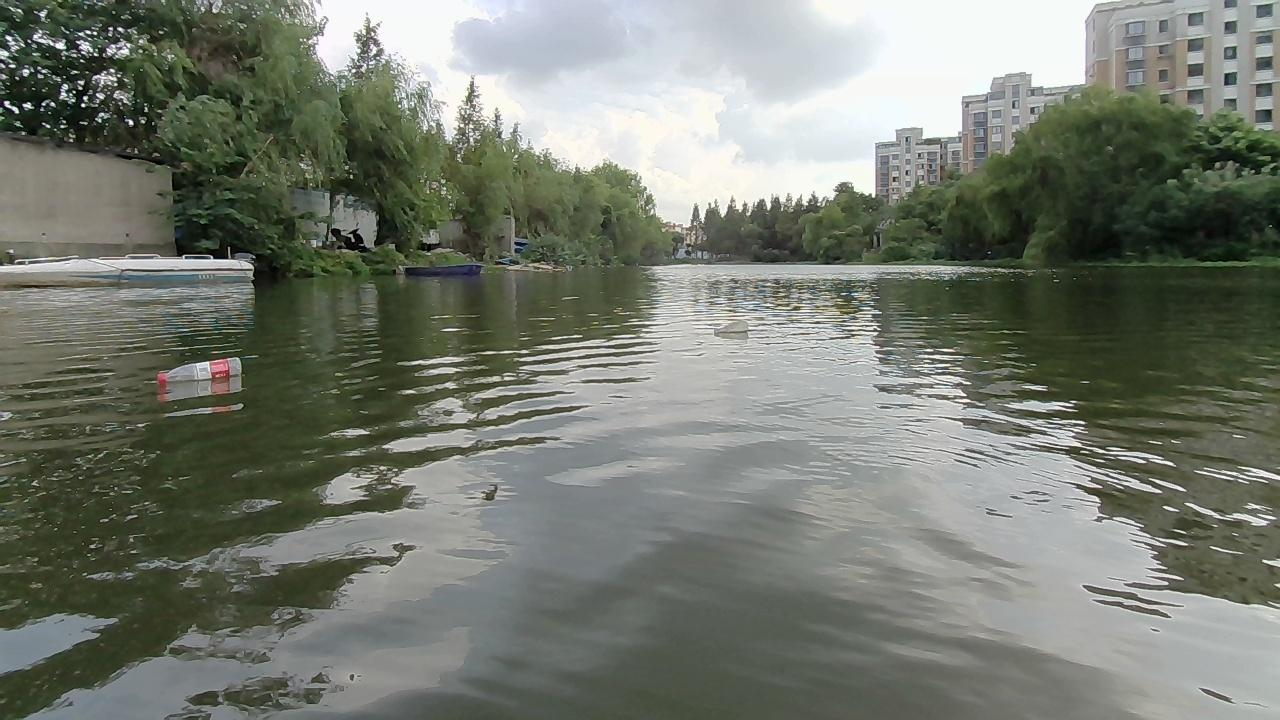bottle: (153, 356, 242, 387), (712, 316, 747, 332)
